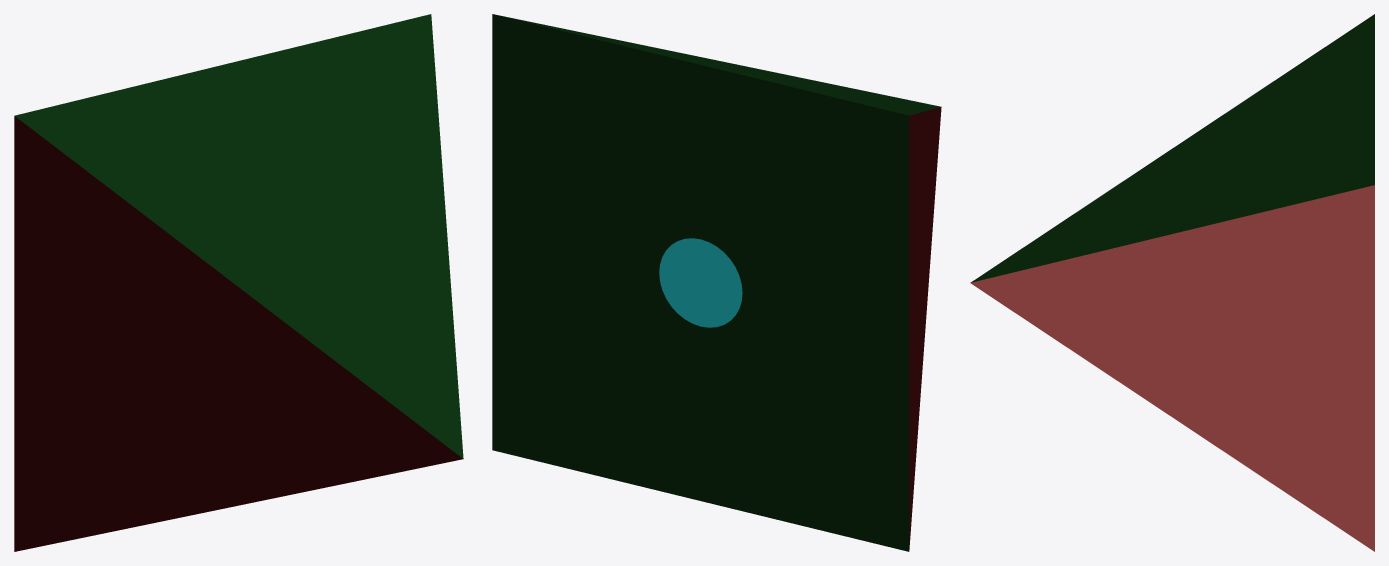
File: marker.glb
3 renders of one model, left to right at view 1: azimuth 30°, elevation 25°; view 2: azimuth 150°, elevation 25°; view 3: azimuth 270°, elevation 25°, orthographic. The views are drawn at different scales.
Visible parts, largest first — view 1: Cube; view 2: Cube; view 3: Cube.
Boxes of the visible parts, x1,y1,x2,y2 form: Cube: (14,14,463,551); Cube: (492,14,941,551); Cube: (970,14,1374,551).
Bounding box in the file's own units: 0.5 × 0.5 × 0.5.
